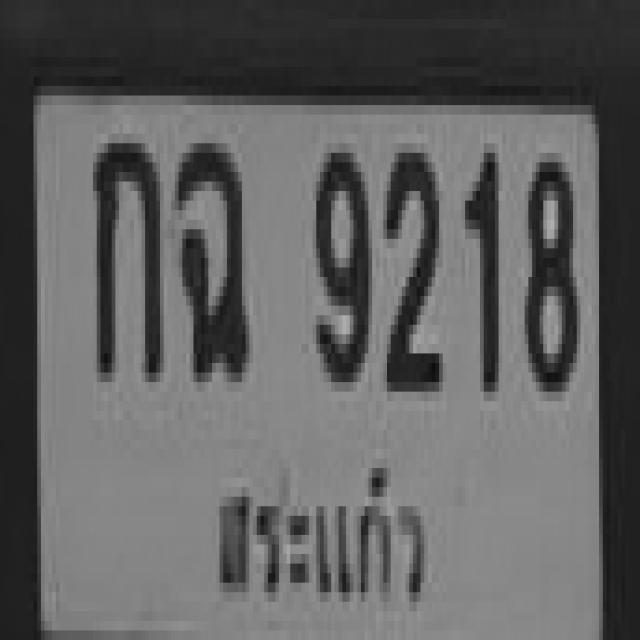1: (461, 143, 495, 382)
10GorGai: (89, 134, 160, 372)
18ChorChing: (175, 134, 245, 372)
2: (382, 143, 438, 382)
8: (521, 143, 573, 382)
9: (312, 143, 364, 373)
SaKaeo: (202, 452, 435, 618)
